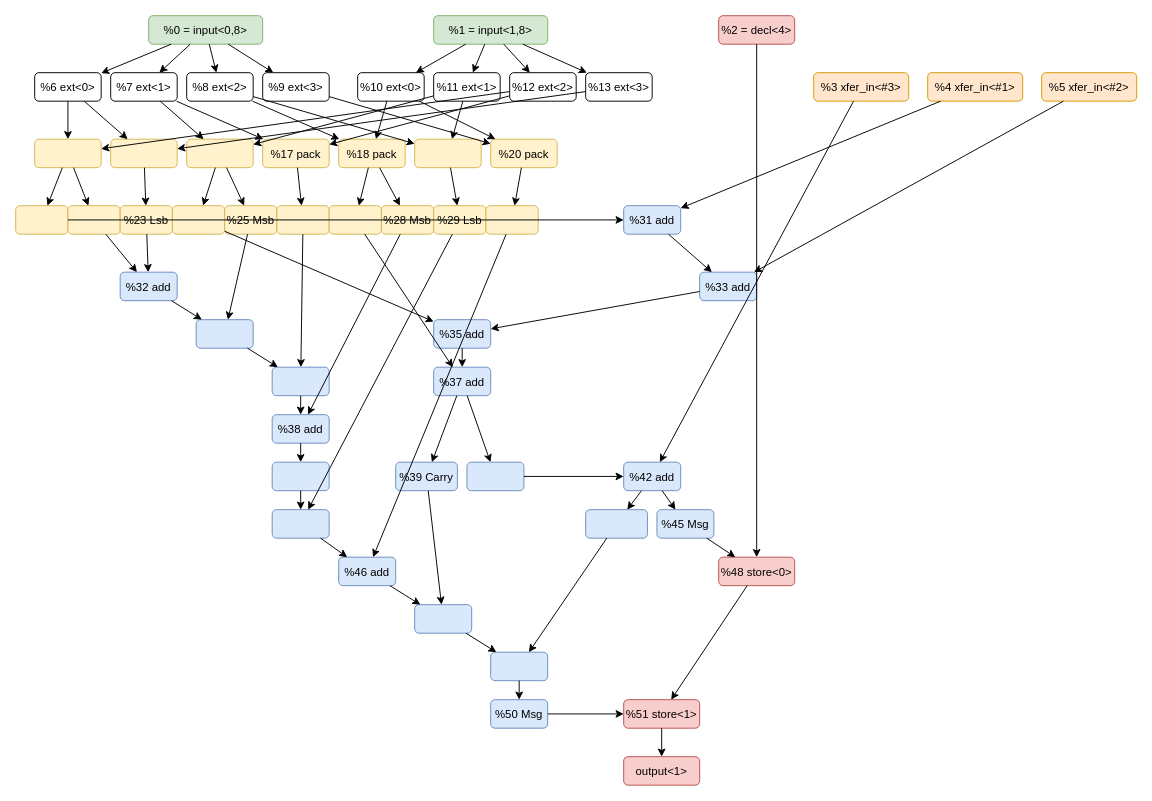
The diagram is 1152 pixels wide and 801 high, and some of its shapes have lost their labels. Each missing label, with the box of its shape:
%14 pack: (34, 138, 101, 168)
%15 pack: (110, 138, 177, 168)
%16 pack: (186, 138, 253, 168)
%19 pack: (414, 138, 481, 168)
%21 Lsb: (15, 205, 68, 234)
%22 Msb: (67, 205, 120, 234)
%24 Lsb: (171, 205, 225, 234)
%26 Lsb: (276, 205, 329, 234)
%27 Lsb: (328, 205, 381, 234)
%30 Lsb: (485, 205, 538, 234)
%34 add: (195, 319, 253, 348)
%36 add: (271, 366, 329, 396)
%40 Msg: (466, 461, 524, 491)
%41 Msg: (271, 461, 329, 491)
%43 add: (271, 509, 329, 538)
%44 Carry: (585, 509, 647, 538)
%47 add: (414, 604, 472, 633)
%49 add: (490, 651, 548, 681)
